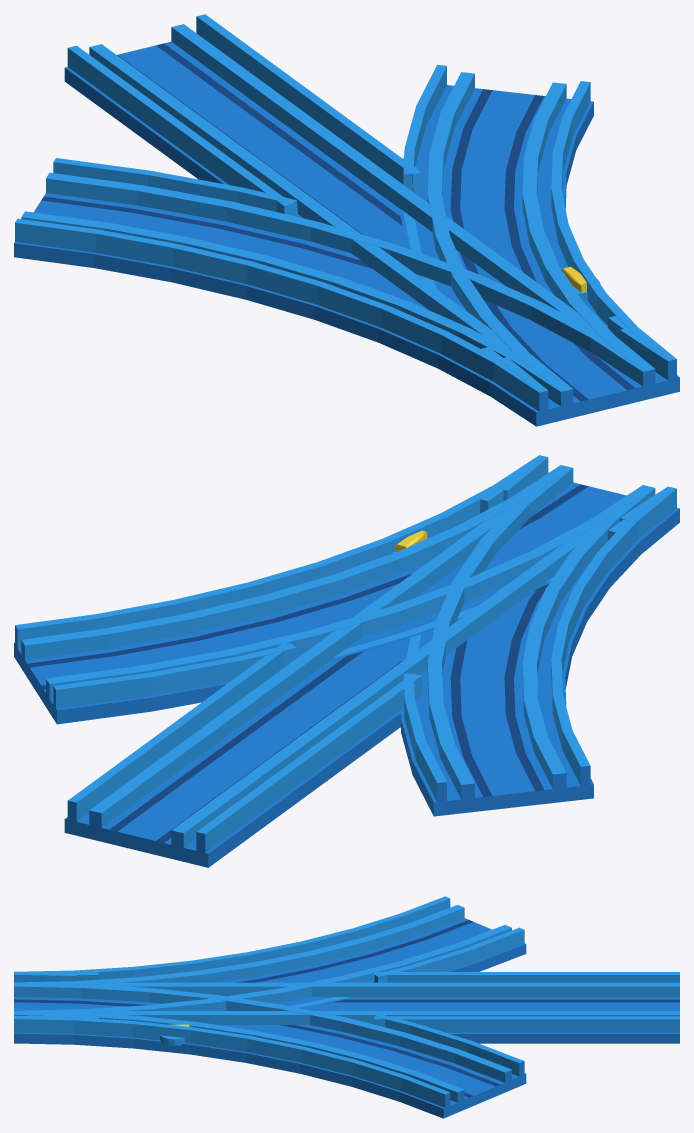
Rendered from Track_Point_Three.fbx.
3 views of the same model, one above another, from view 1: azimuth 30°, elevation 25°; view 2: azimuth 150°, elevation 25°; view 3: azimuth 270°, elevation 25° (orthographic). The views are drawn at different scales.
Parts seen in each view (by area): view 1: Rail left, Rail through, Rail right; view 2: Rail right, Rail through, Rail left; view 3: Rail right, Rail through, Rail left.
Boxes of the visible parts, box(x1,y1,x2,y2) form: Rail left: box(14, 158, 667, 426); Rail through: box(64, 14, 679, 425); Rail right: box(399, 65, 679, 412); Rail right: box(14, 455, 679, 724); Rail through: box(64, 489, 626, 867); Rail left: box(400, 457, 679, 816); Rail right: box(14, 971, 526, 1118); Rail through: box(77, 972, 679, 1043); Rail left: box(20, 896, 526, 1017).
Bounding box in the file's own units: 426 × 23.41 × 600.
